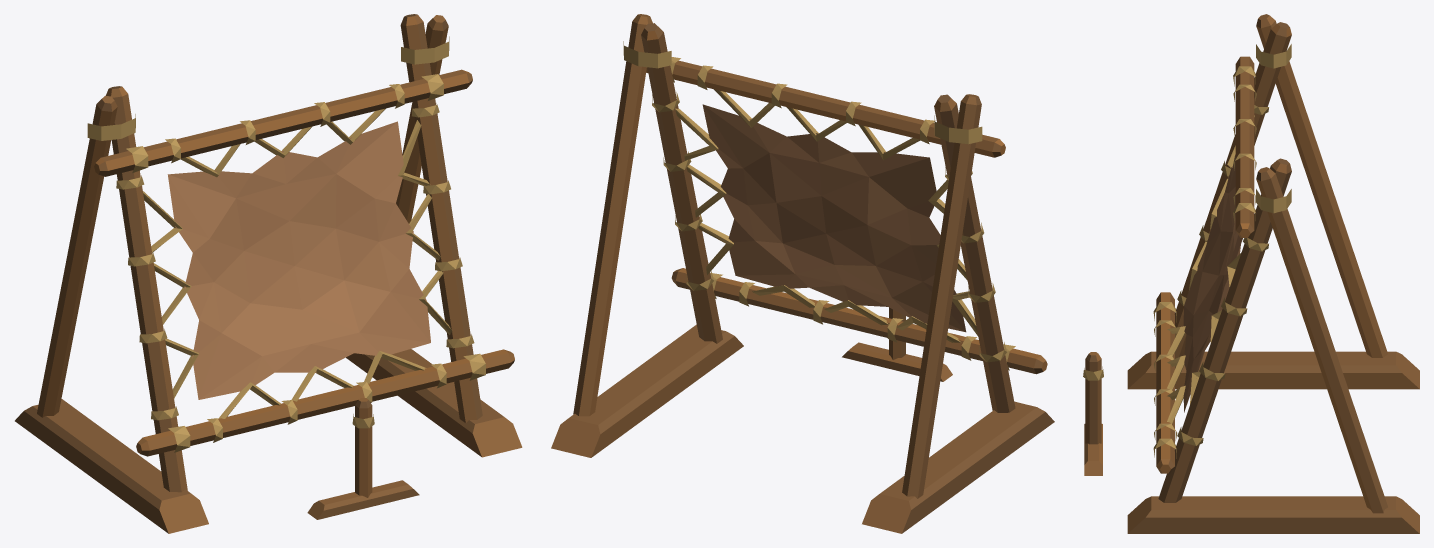
File: laced-hide-stretching-rack-8152a1.glb
The picture shows the model from 3 angles, left to right: view 1: azimuth 30°, elevation 25°; view 2: azimuth 150°, elevation 25°; view 3: azimuth 270°, elevation 25°; orthographic projection. The views are drawn at different scales.
Parts seen in each view (by area): view 1: frame, hide-panel, anchor-mesh; view 2: frame, hide-panel, anchor-mesh; view 3: frame, hide-panel, anchor-mesh.
Boxes of the visible parts, x1,y1,x2,y2 form: frame: (15, 14, 522, 533); hide-panel: (143, 108, 452, 418); anchor-mesh: (307, 398, 419, 519); frame: (551, 14, 1054, 533); hide-panel: (675, 89, 978, 342); anchor-mesh: (842, 307, 952, 381); frame: (1127, 14, 1419, 533); hide-panel: (1167, 115, 1254, 423); anchor-mesh: (1083, 352, 1103, 475).
Bounding box in the file's own units: 2.4 × 2.34 × 1.98.
